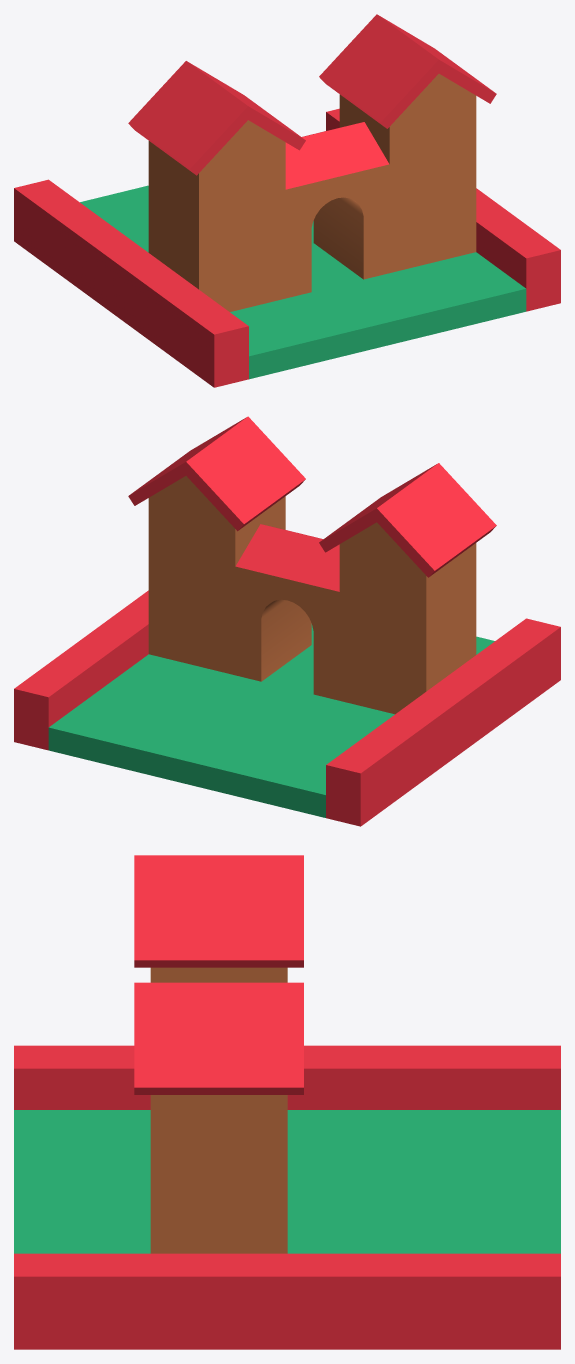
File: castle.fbx
The picture shows the model from 3 angles, top to bottom: view 1: azimuth 30°, elevation 25°; view 2: azimuth 150°, elevation 25°; view 3: azimuth 270°, elevation 25°; orthographic projection. The views are drawn at different scales.
Parts seen in each view (by area): view 1: castle; view 2: castle; view 3: castle.
Part boxes in pixels (bbox=[...]): castle: bbox=[14, 14, 560, 387]; castle: bbox=[14, 416, 560, 826]; castle: bbox=[14, 855, 560, 1349].
Bounding box in the file's own units: 10 × 6.35 × 10.
